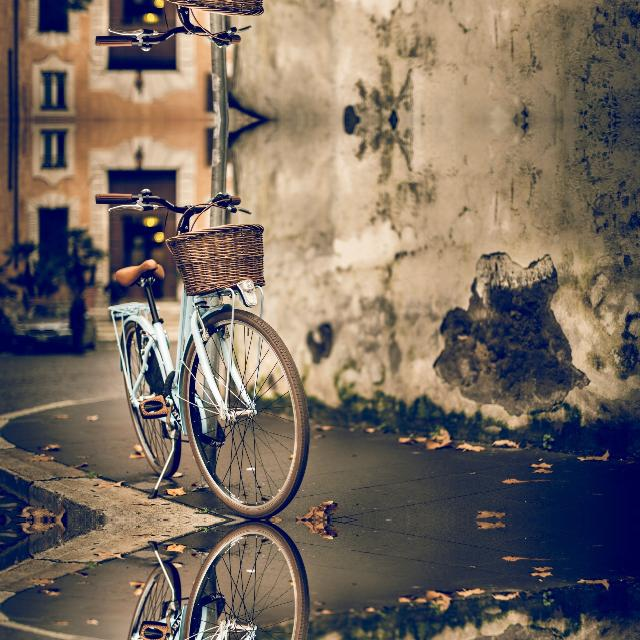obstacle: (76, 169, 328, 513), (76, 527, 328, 640), (76, 0, 328, 71)
